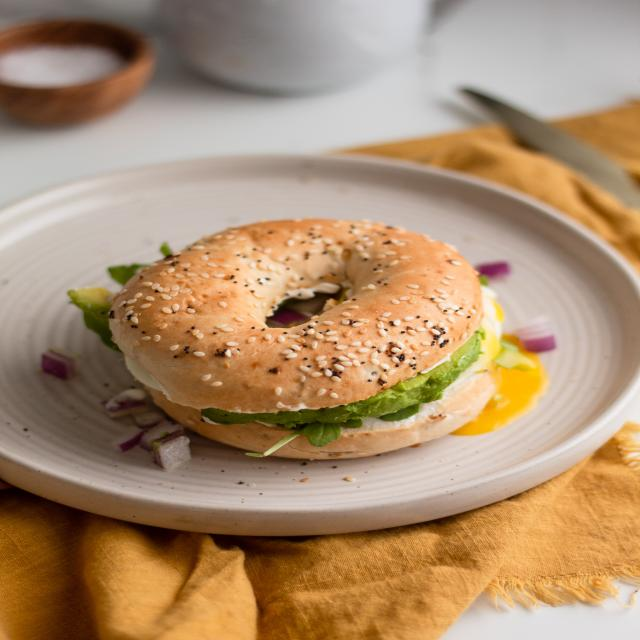Bagel: (109, 219, 486, 414)
